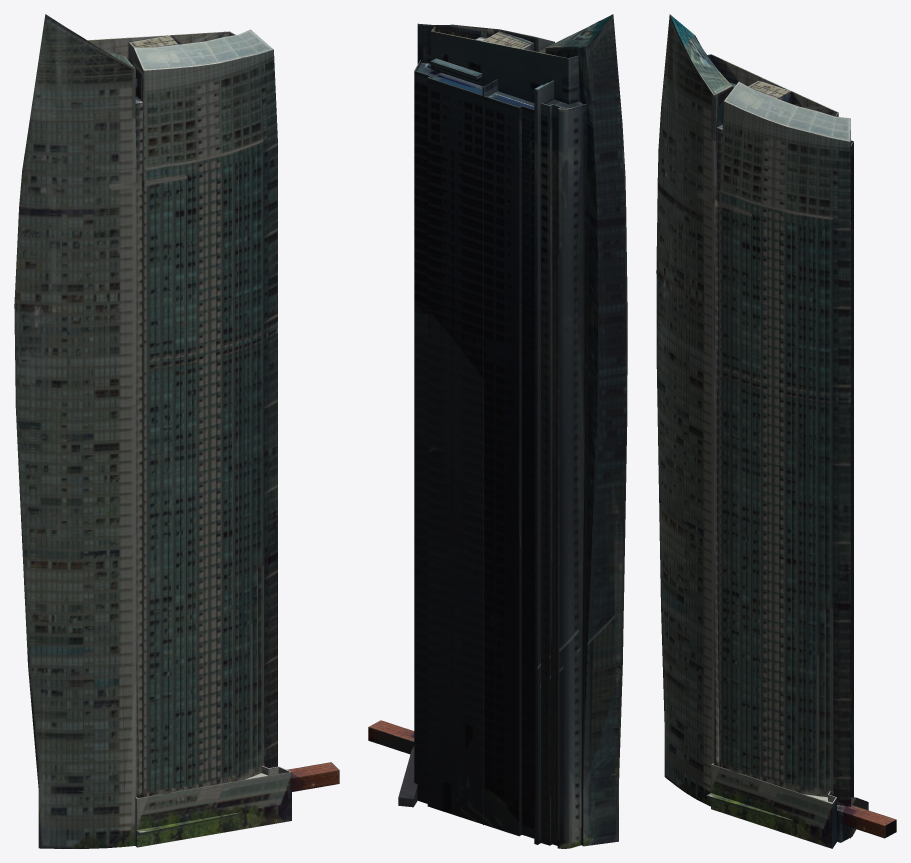
3 renders of one model, left to right at view 1: azimuth 30°, elevation 25°; view 2: azimuth 150°, elevation 25°; view 3: azimuth 330°, elevation 25°, orthographic. The views are drawn at different scales.
Parts seen in each view (by area): view 1: 8_0.glb; view 2: 8_0.glb; view 3: 8_0.glb.
Boxes of the visible parts, x1,y1,x2,y2 form: 8_0.glb: (14,14,339,848); 8_0.glb: (368,14,627,848); 8_0.glb: (656,14,896,848).
Bounding box in the file's own units: 87.97 × 242 × 31.09.
Materials: 2 (2 with a texture image).
